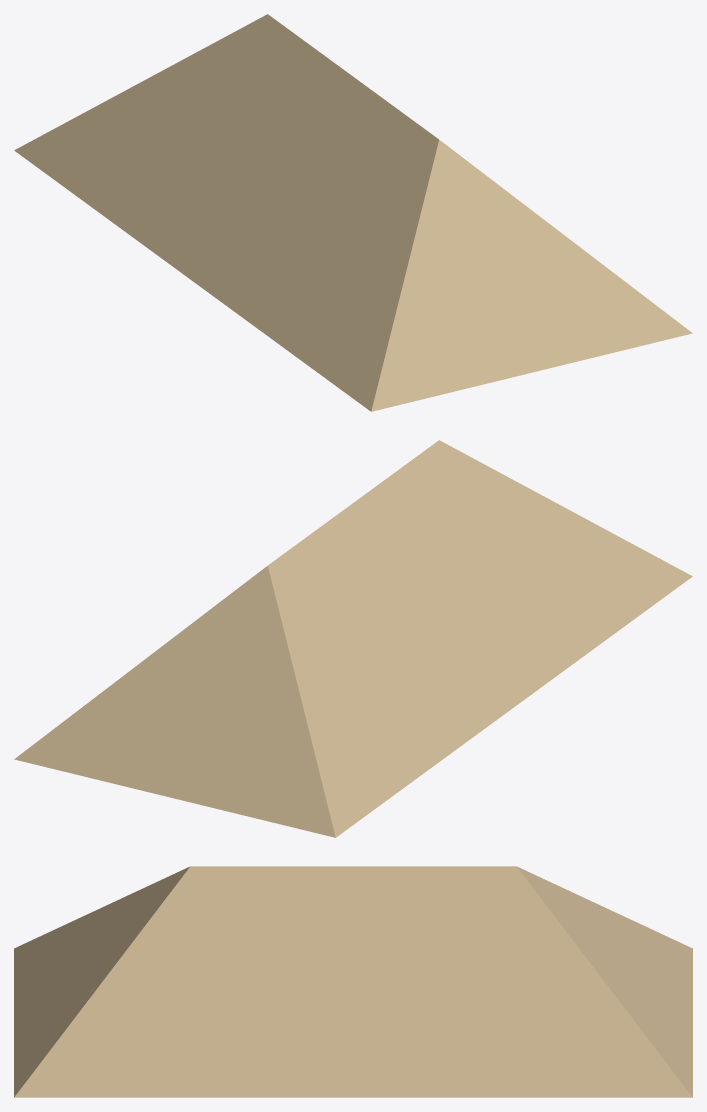
File: port_cargo4_far.fbx
The picture shows the model from 3 angles, top to bottom: view 1: azimuth 30°, elevation 25°; view 2: azimuth 150°, elevation 25°; view 3: azimuth 270°, elevation 25°; orthographic projection. The views are drawn at different scales.
Parts seen in each view (by area): view 1: a401_0_port_cargo4_far; view 2: a401_0_port_cargo4_far; view 3: a401_0_port_cargo4_far.
Part boxes in pixels (bbox=[...]): a401_0_port_cargo4_far: bbox=[14, 14, 692, 411]; a401_0_port_cargo4_far: bbox=[14, 440, 692, 837]; a401_0_port_cargo4_far: bbox=[14, 866, 692, 1097].
Bounding box in the file's own units: 5.2 × 2.55 × 10.
